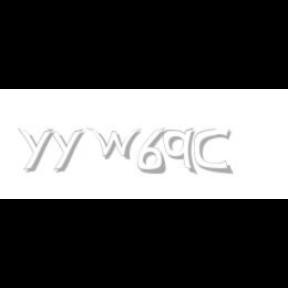6: (138, 128, 166, 176)
C: (195, 128, 232, 174)
q: (163, 128, 199, 176)
w: (86, 128, 146, 160)
y: (18, 128, 58, 172), (48, 128, 88, 172)
